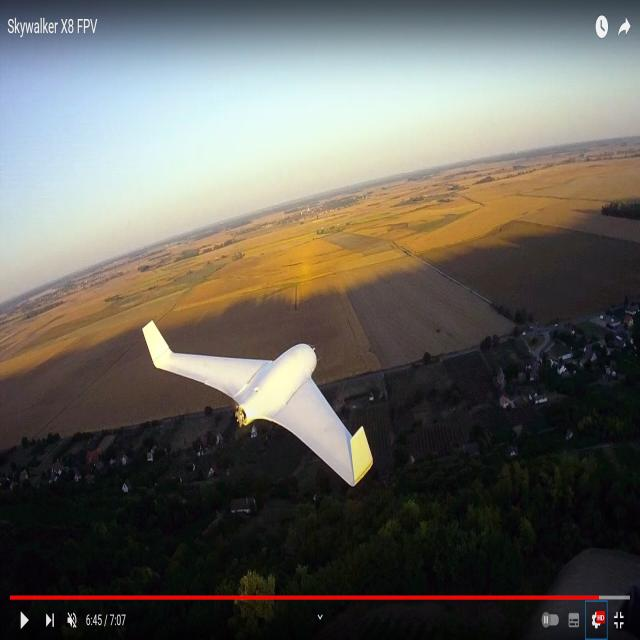iha: (138, 317, 372, 486)
